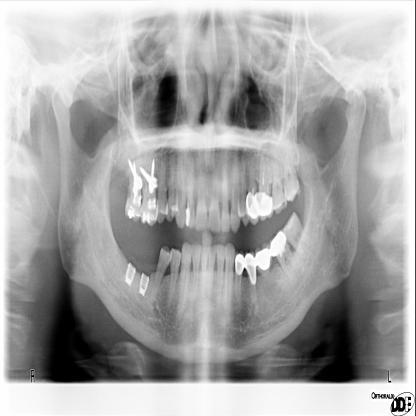Bicon: (121, 260, 138, 290), (138, 272, 150, 297)
